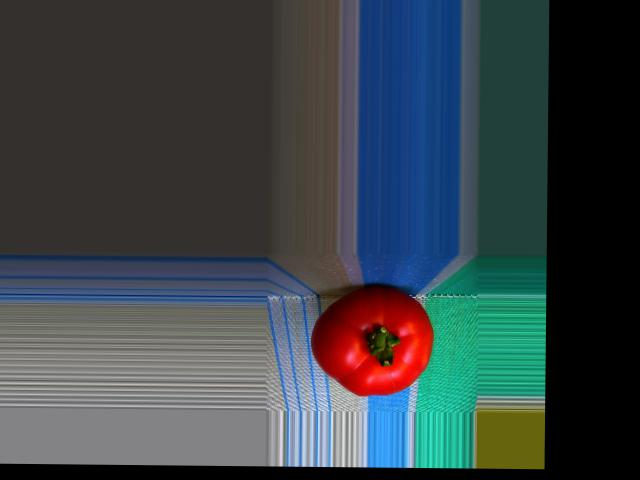tomato: (311, 284, 434, 396)
